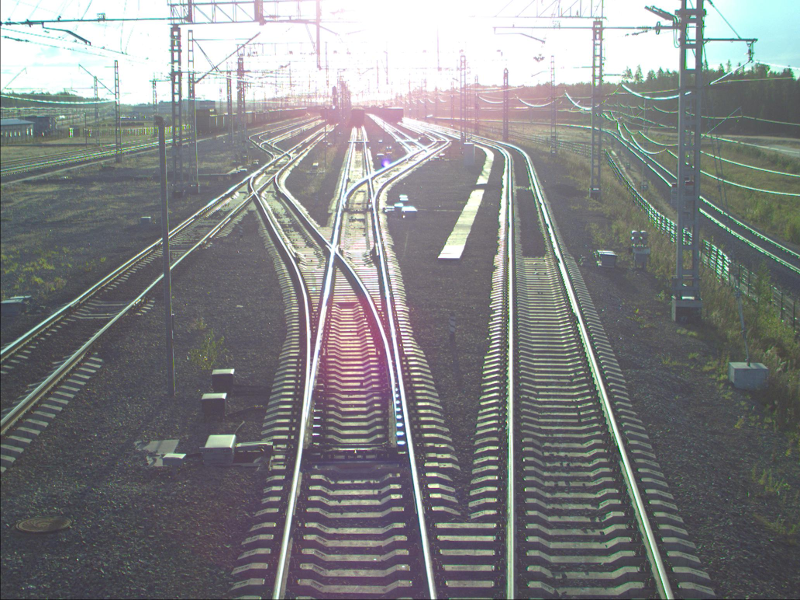left: (339, 176, 378, 210)
right: (297, 243, 418, 446)
